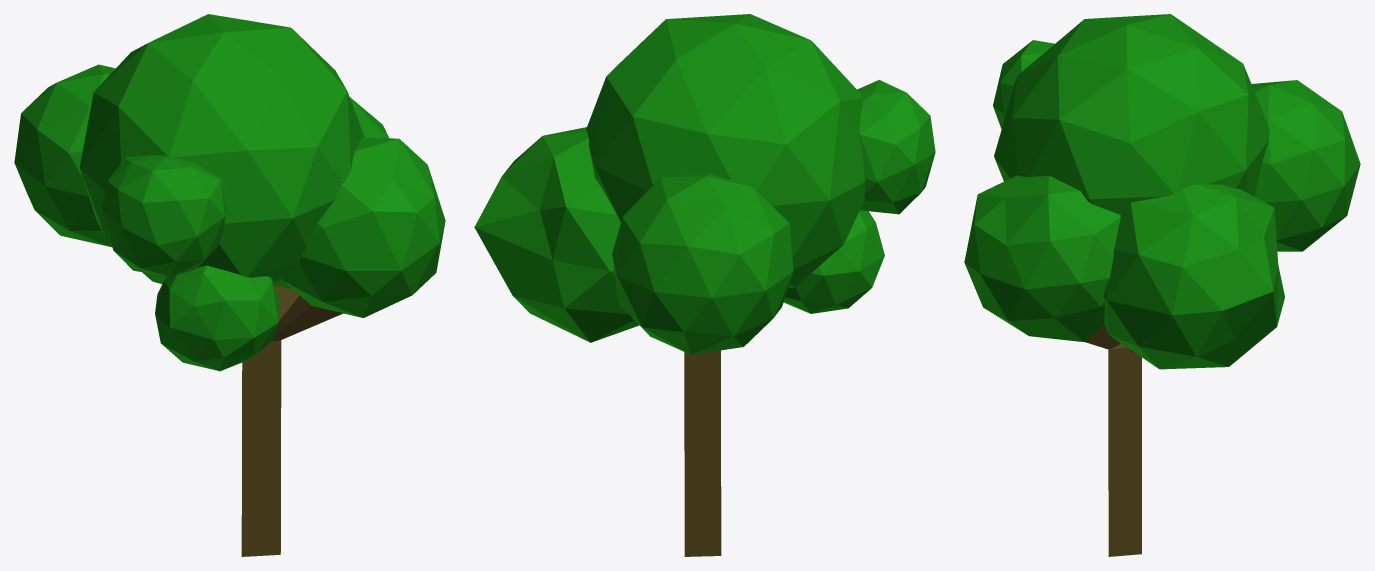
File: 240519_tree_bubbly_02.glb
The picture shows the model from 3 angles, left to right: view 1: azimuth 30°, elevation 25°; view 2: azimuth 150°, elevation 25°; view 3: azimuth 270°, elevation 25°; orthographic projection. The views are drawn at different scales.
Visible parts, largest first — view 1: Icosphere.004; view 2: Icosphere.004; view 3: Icosphere.004.
Boxes of the visible parts, x1,y1,x2,y2 form: Icosphere.004: (14,14,445,556); Icosphere.004: (474,14,935,556); Icosphere.004: (964,14,1360,556).
Size of the model in its own units: 3.36 by 4.86 by 3.43.
